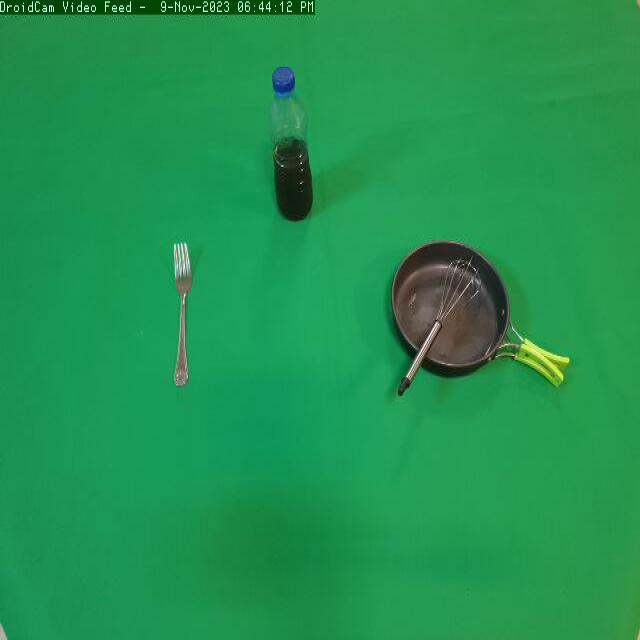fork: (162, 224, 214, 398)
fullbottle: (263, 62, 320, 233)
pan: (379, 238, 573, 407)
whisk: (397, 259, 481, 396)
